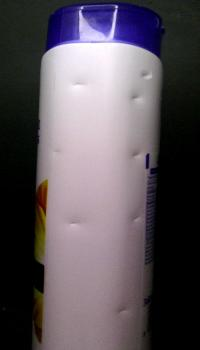dent_marginal: (110, 303, 134, 319), (124, 91, 146, 105), (123, 149, 148, 160), (50, 147, 68, 162), (66, 82, 88, 94), (134, 71, 156, 82), (64, 219, 83, 231), (127, 214, 140, 228)
